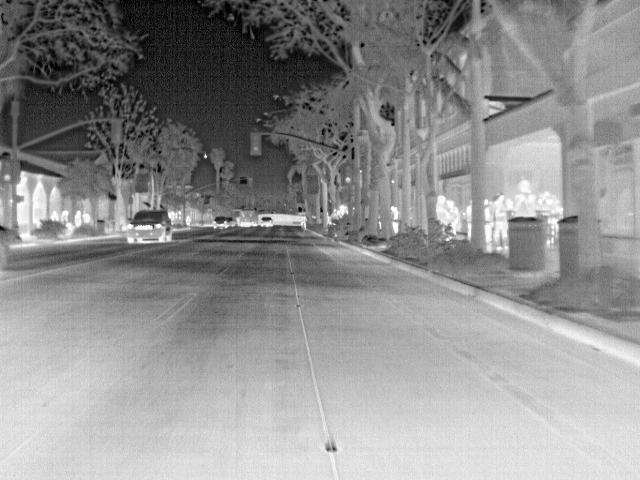car: (122, 209, 174, 247), (209, 216, 232, 232), (257, 214, 275, 228)
person: (495, 192, 510, 251), (482, 196, 495, 251), (444, 199, 463, 236), (435, 193, 453, 225), (72, 209, 84, 228), (48, 209, 60, 222), (181, 214, 193, 226)
